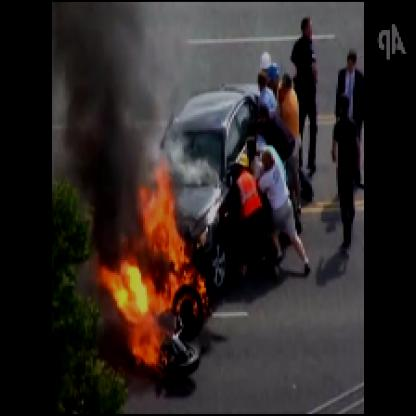Fire: (93, 156, 221, 383)
Smoke: (68, 2, 136, 226)
